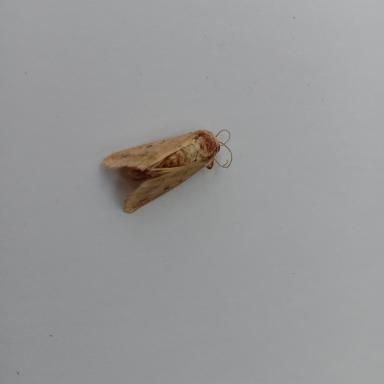abw: (99, 125, 236, 214)
